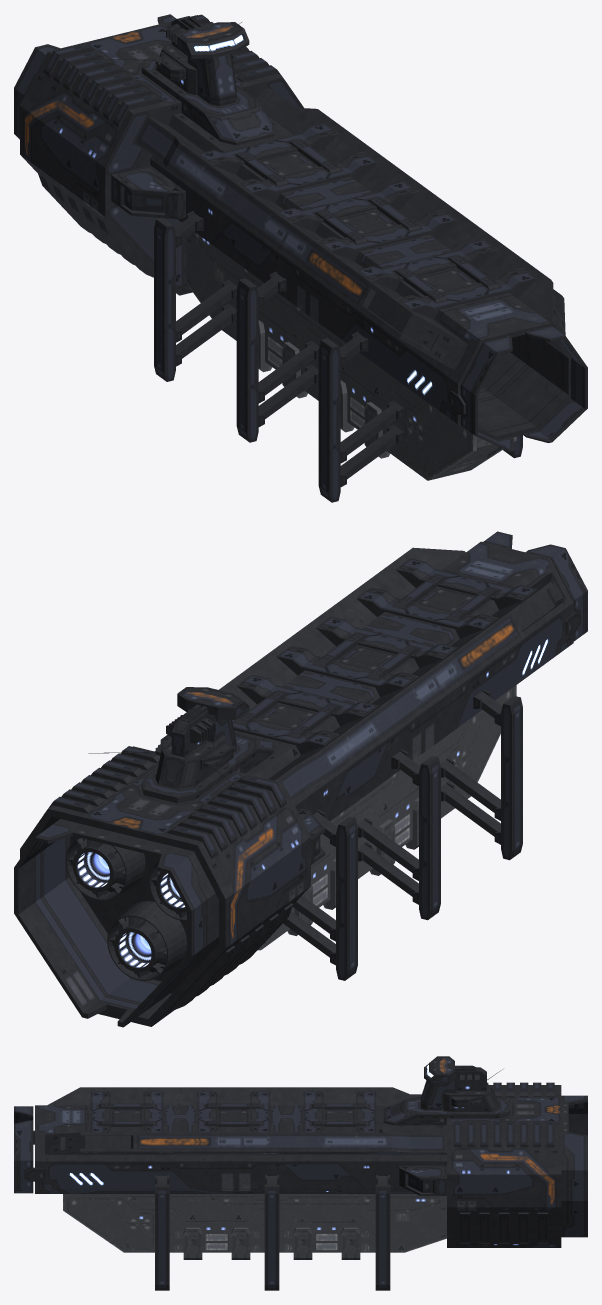
File: skiff-magpie.glb
3 views of the same model, one above another, from view 1: azimuth 30°, elevation 25°; view 2: azimuth 150°, elevation 25°; view 3: azimuth 270°, elevation 25° (orthographic). The views are drawn at different scales.
Parts seen in each view (by area): view 1: hull; view 2: hull; view 3: hull.
Part boxes in pixels (box(x1,y1,x2,y2)): hull: box(14, 14, 587, 502); hull: box(14, 531, 587, 1027); hull: box(14, 1056, 587, 1290).
Bounding box in the file's own units: 0.2772 × 0.3724 × 1.
1 material, 1 textured.
